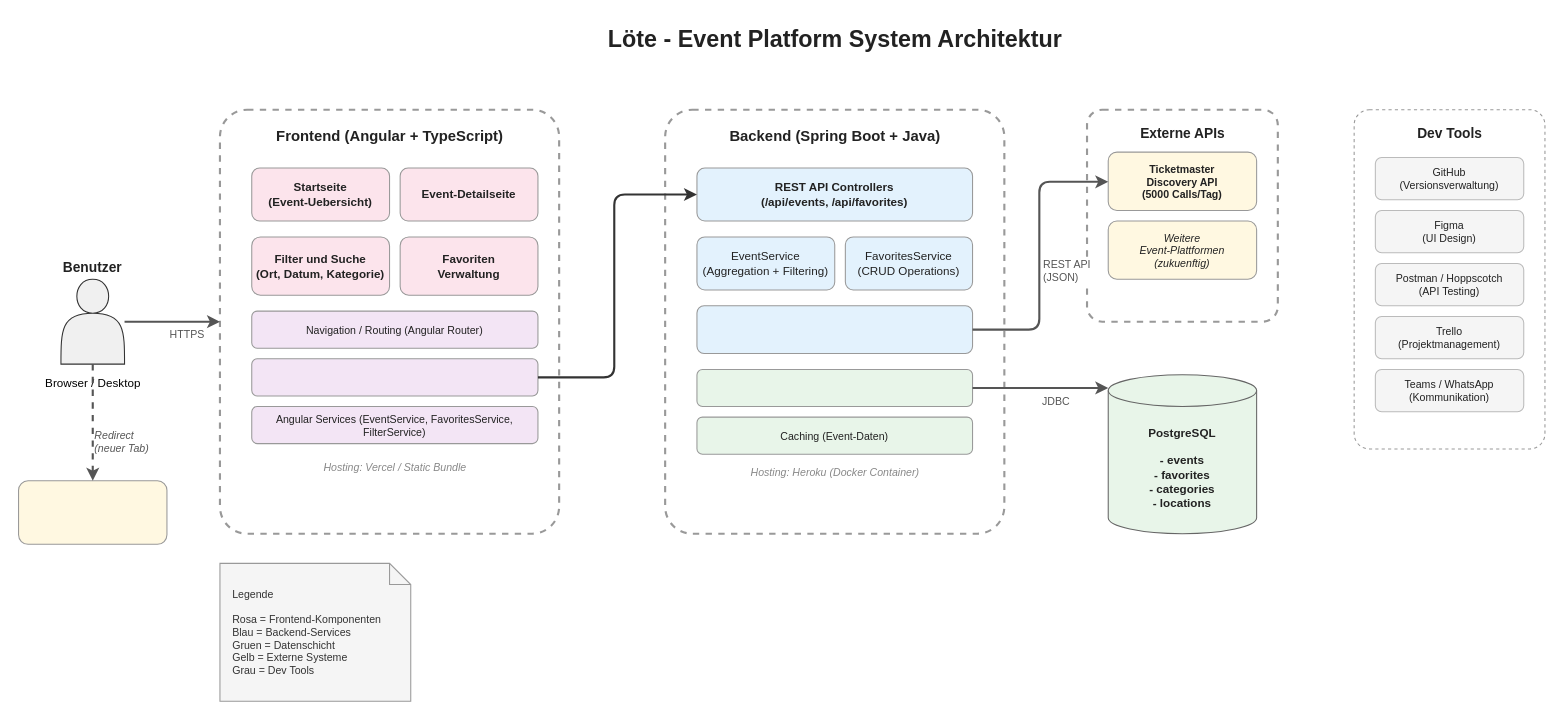
The diagram is 1563 pixels wide and 720 high, and some of its shapes have lost their labels. Each missing label, with the centre of its shape:
"API Integration Layer (Ticketmaster Client)" belongs at pixel 834 329.
"Externe Ticket-Seiten (Kauf via Redirect)" belongs at pixel 92 512.
"HTTP Client (Angular HttpClient)" belongs at pixel 394 377.
"JPA / Hibernate (Data Access Layer)" belongs at pixel 834 387.
